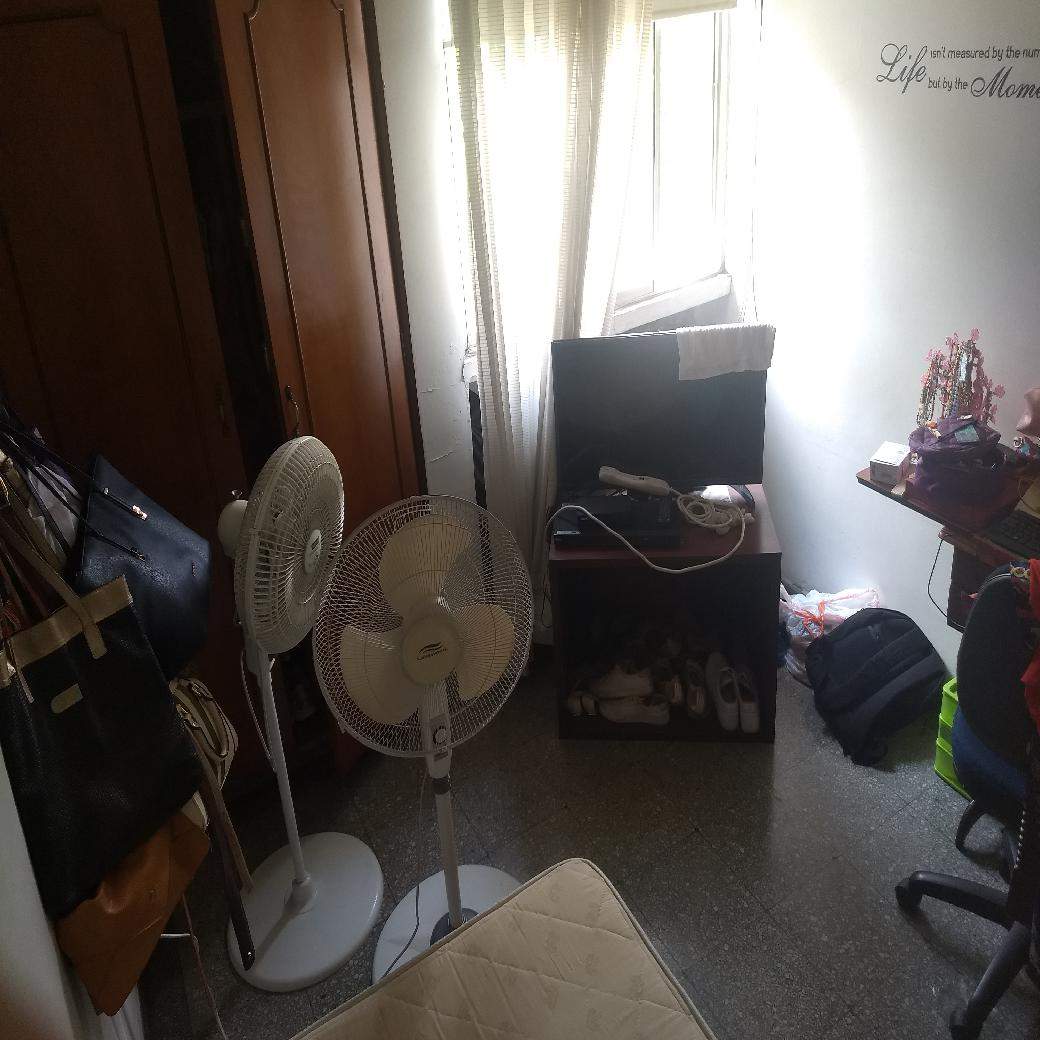tv: (550, 321, 770, 484)
ventilador: (310, 496, 537, 753), (207, 435, 342, 665)
